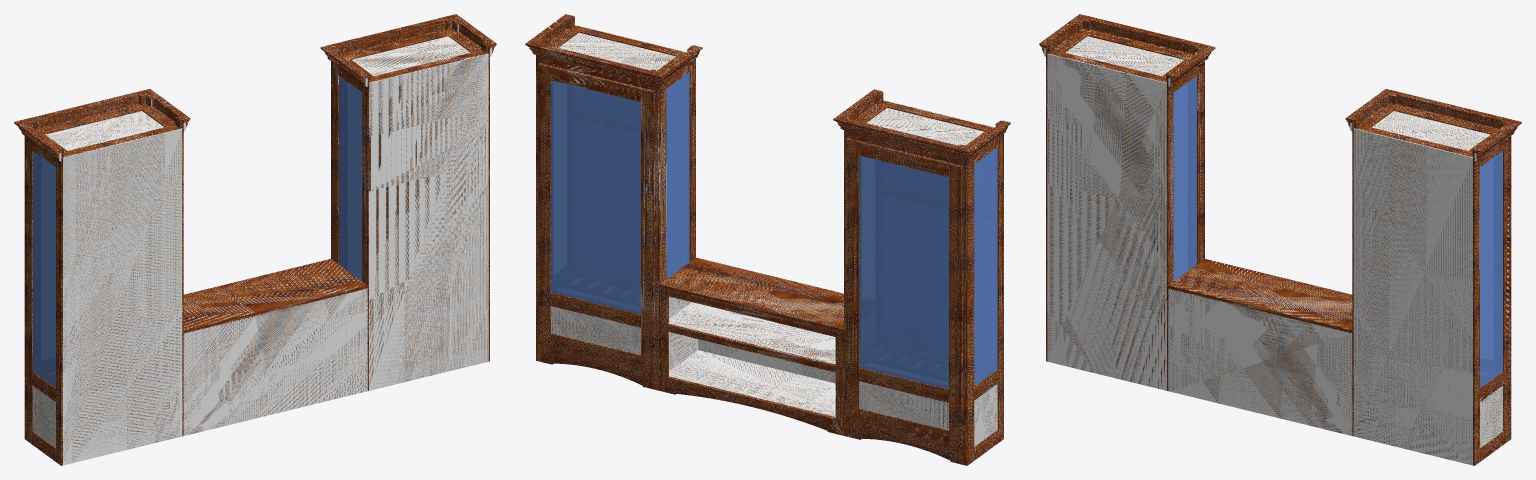
The picture shows the model from 3 angles, left to right: view 1: azimuth 30°, elevation 25°; view 2: azimuth 150°, elevation 25°; view 3: azimuth 330°, elevation 25°; orthographic projection.
Visible parts, largest first — view 1: mesh2_mesh2-geometry, mesh60_mesh60-geometry, mesh3_mesh3-geometry, mesh54_mesh54-geometry, mesh36_mesh36-geometry, mesh48_mesh48-geometry, mesh38_mesh38-geometry, mesh33_mesh33-geometry, mesh50_mesh50-geometry, mesh6_mesh6-geometry, mesh37_mesh37-geometry, mesh29_mesh29-geometry (+6 smaller); view 2: mesh51_mesh51-geometry, mesh3_mesh3-geometry, mesh53_mesh53-geometry, mesh62_mesh62-geometry, mesh67_mesh67-geometry, mesh54_mesh54-geometry, mesh50_mesh50-geometry, mesh69_mesh69-geometry, mesh36_mesh36-geometry, mesh48_mesh48-geometry, mesh38_mesh38-geometry, mesh1_mesh1-geometry (+17 smaller); view 3: mesh2_mesh2-geometry, mesh60_mesh60-geometry, mesh3_mesh3-geometry, mesh54_mesh54-geometry, mesh36_mesh36-geometry, mesh37_mesh37-geometry, mesh44_mesh44-geometry, mesh33_mesh33-geometry, mesh50_mesh50-geometry, mesh6_mesh6-geometry, mesh48_mesh48-geometry, mesh29_mesh29-geometry (+6 smaller).
Part boxes in pixels (<box>): mesh2_mesh2-geometry: <box>63,53,488,465</box>; mesh60_mesh60-geometry: <box>185,289,365,435</box>; mesh3_mesh3-geometry: <box>33,76,362,387</box>; mesh54_mesh54-geometry: <box>183,259,367,333</box>; mesh36_mesh36-geometry: <box>45,36,470,150</box>; mesh48_mesh48-geometry: <box>56,70,369,465</box>; mesh38_mesh38-geometry: <box>26,49,340,444</box>; mesh33_mesh33-geometry: <box>14,14,455,123</box>; mesh50_mesh50-geometry: <box>24,18,454,440</box>; mesh6_mesh6-geometry: <box>35,29,456,134</box>; mesh37_mesh37-geometry: <box>175,41,489,436</box>; mesh29_mesh29-geometry: <box>63,50,485,156</box>; mesh51_mesh51-geometry: <box>551,80,948,389</box>; mesh3_mesh3-geometry: <box>666,72,997,386</box>; mesh53_mesh53-geometry: <box>669,302,835,416</box>; mesh62_mesh62-geometry: <box>641,88,962,446</box>; mesh67_mesh67-geometry: <box>538,63,859,421</box>; mesh54_mesh54-geometry: <box>659,257,843,332</box>; mesh50_mesh50-geometry: <box>536,41,968,465</box>; mesh69_mesh69-geometry: <box>551,306,948,430</box>; mesh36_mesh36-geometry: <box>558,32,983,145</box>; mesh48_mesh48-geometry: <box>687,45,1003,442</box>; mesh38_mesh38-geometry: <box>658,66,974,464</box>; mesh1_mesh1-geometry: <box>544,345,958,463</box>; mesh2_mesh2-geometry: <box>1047,53,1472,465</box>; mesh60_mesh60-geometry: <box>1170,289,1350,435</box>; mesh3_mesh3-geometry: <box>1173,76,1502,387</box>; mesh54_mesh54-geometry: <box>1168,259,1352,333</box>; mesh36_mesh36-geometry: <box>1065,36,1490,150</box>; mesh37_mesh37-geometry: <box>1166,70,1479,465</box>; mesh44_mesh44-geometry: <box>1195,49,1509,444</box>; mesh33_mesh33-geometry: <box>1080,14,1521,123</box>; mesh50_mesh50-geometry: <box>1081,18,1511,440</box>; mesh6_mesh6-geometry: <box>1079,29,1500,134</box>; mesh48_mesh48-geometry: <box>1046,41,1360,436</box>; mesh29_mesh29-geometry: <box>1050,50,1472,156</box>.
Bounding box in the file's own units: 0.8186 × 0.5596 × 0.1295.
